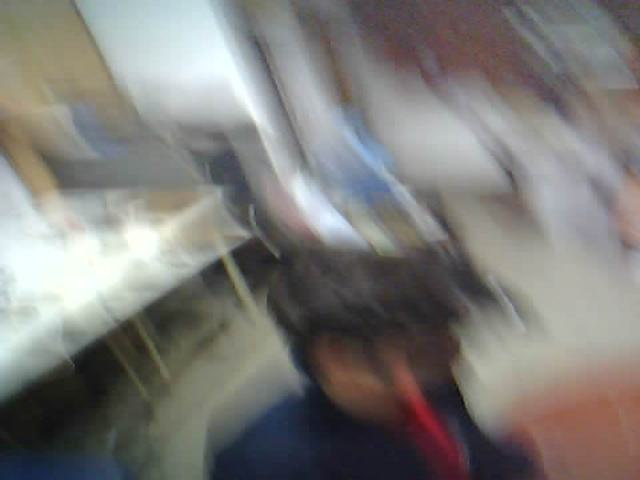person: (178, 212, 549, 480)
